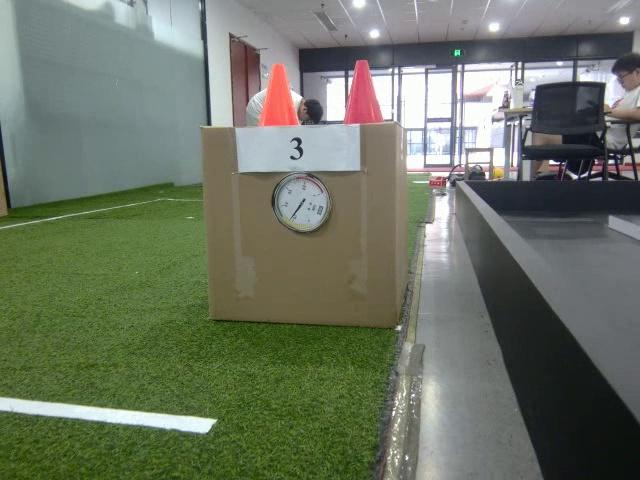3: (290, 136, 304, 161)
Dashboard: (272, 172, 332, 234)
orange_barrel: (257, 61, 301, 127)
red_barrel: (342, 59, 384, 125)
ssi: (317, 205, 323, 216)
